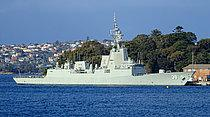MIL_Ship: (13, 27, 196, 85)
